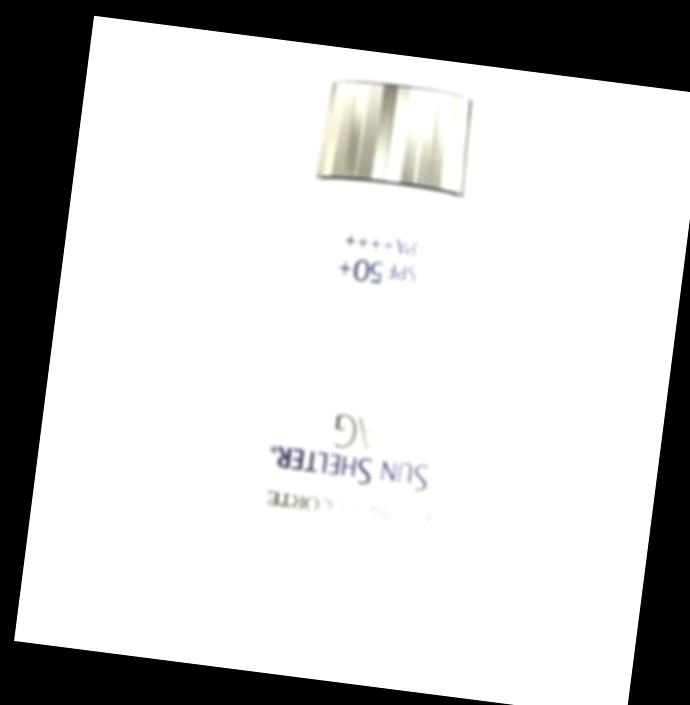cosmetic: (228, 70, 506, 646)
